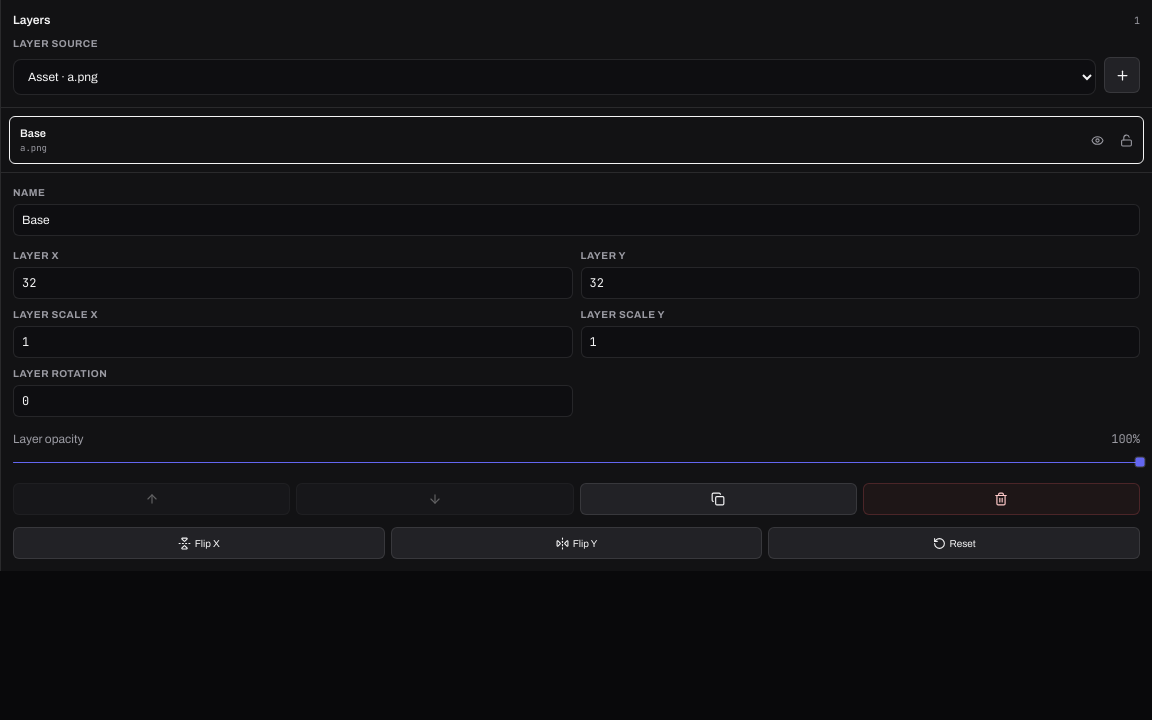
Test case: ComposeLayersPanel › duplicates and removes a layer with clear feedback
Click the button named "Duplicate layer": (718, 499) [580, 483, 857, 515]
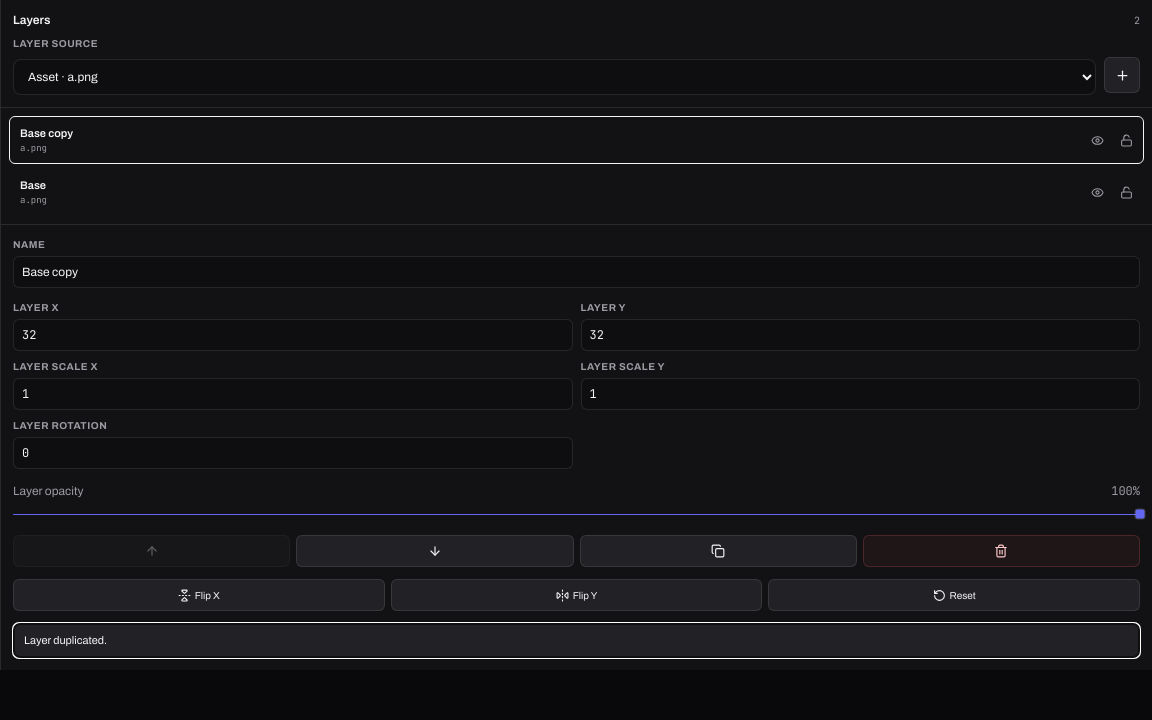
Click the button named "Delete layer": (1001, 551) [863, 535, 1140, 567]
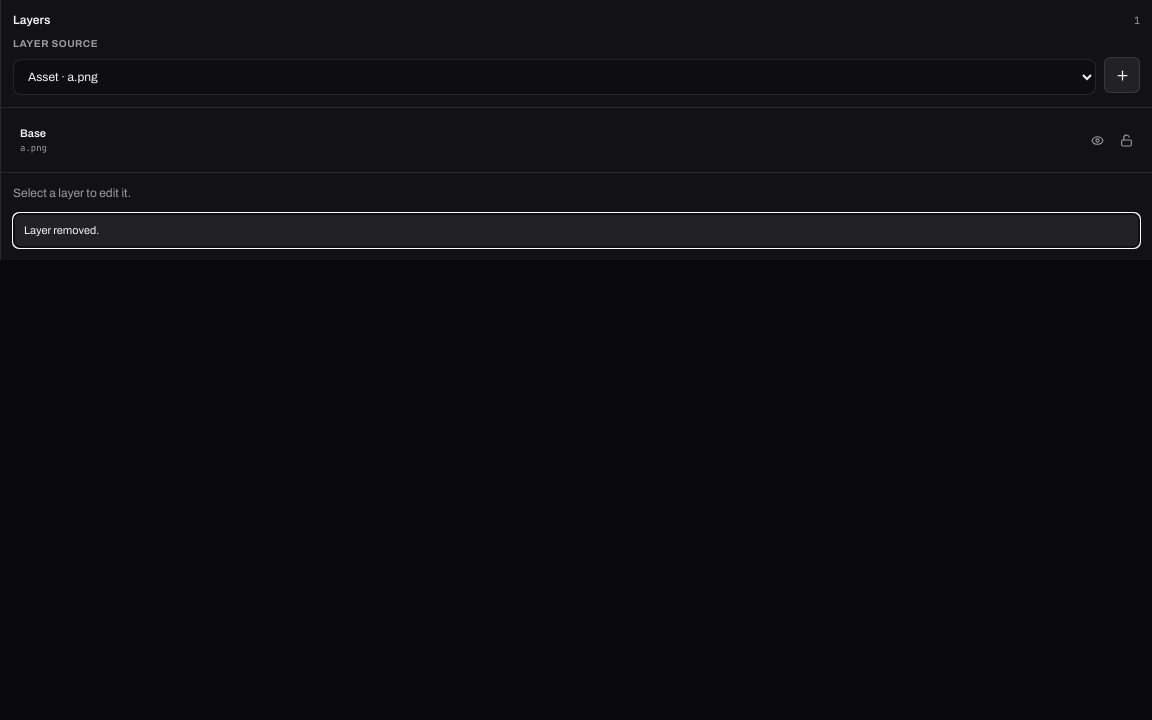
Expected: the message shows "Layer removed", [24, 224, 99, 236]
